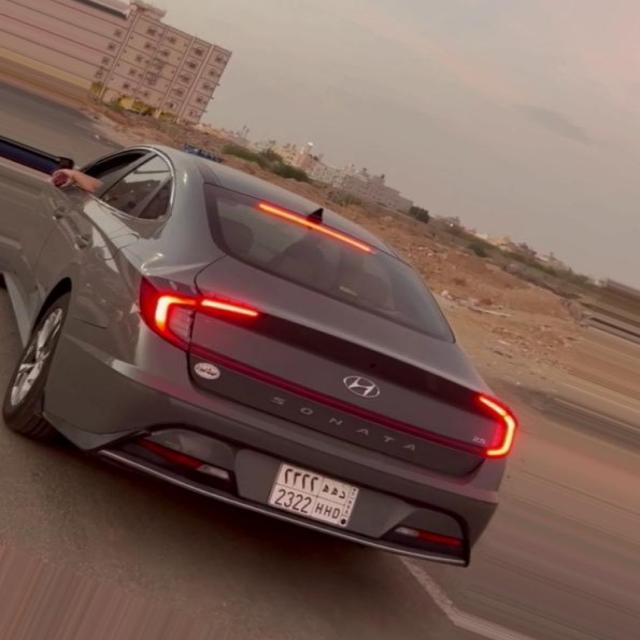Car-plate: (261, 447, 368, 544)
